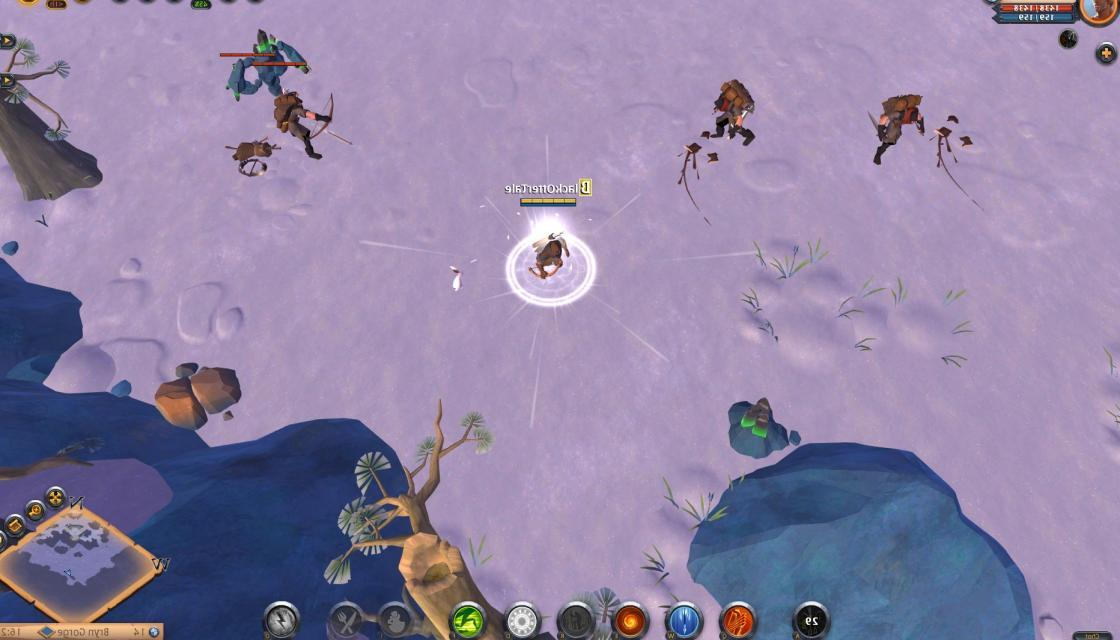limestone: (154, 358, 246, 431)
tinore: (719, 397, 795, 463)
